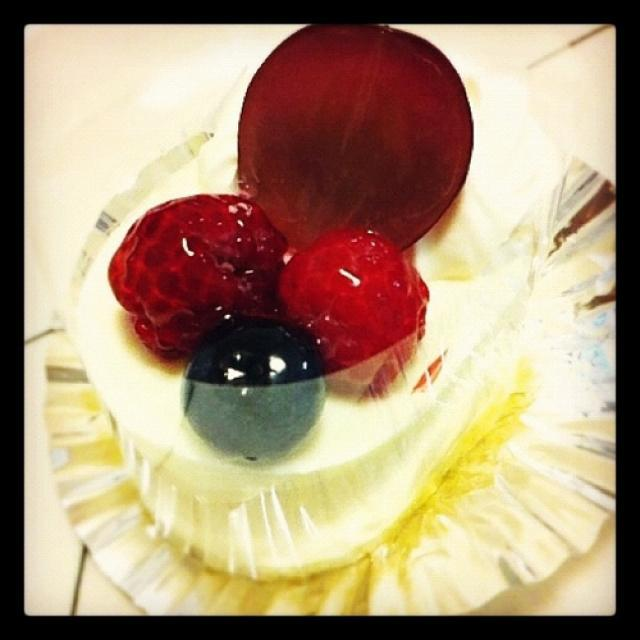Rare cheese cake: (50, 27, 596, 619)
